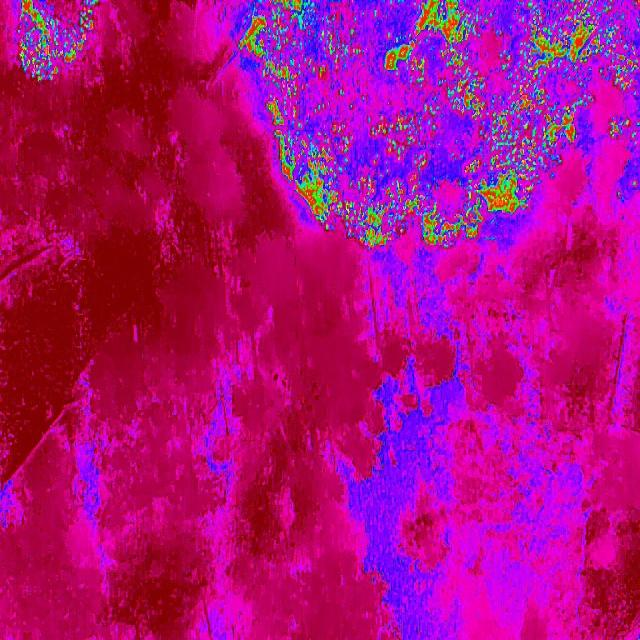fire: (226, 0, 640, 139), (278, 139, 564, 249), (0, 0, 104, 88)
